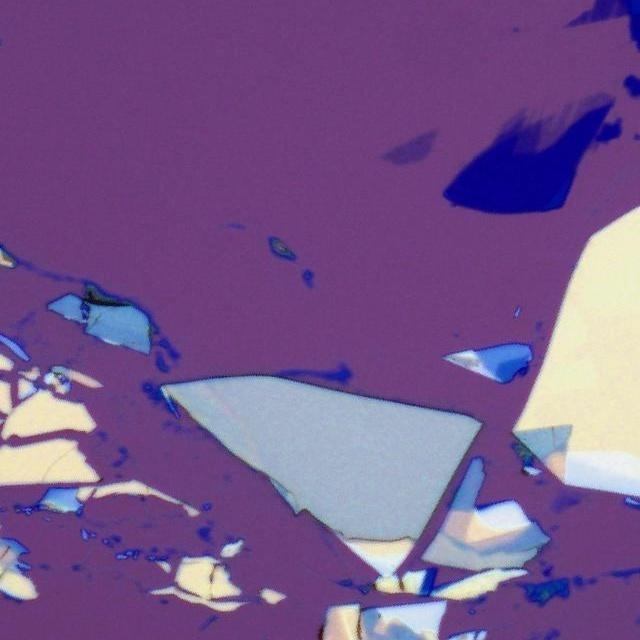monolayer-eWW4: (537, 90, 640, 152), (380, 126, 436, 166)
